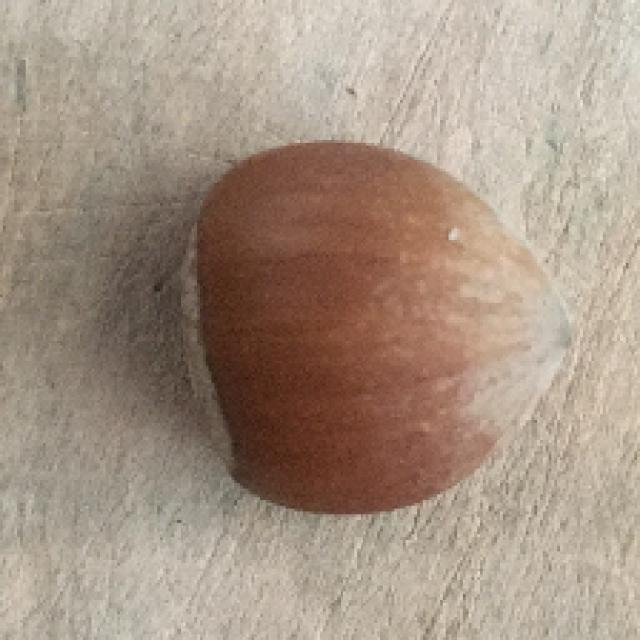qualityHazelnut: (173, 112, 582, 534)
